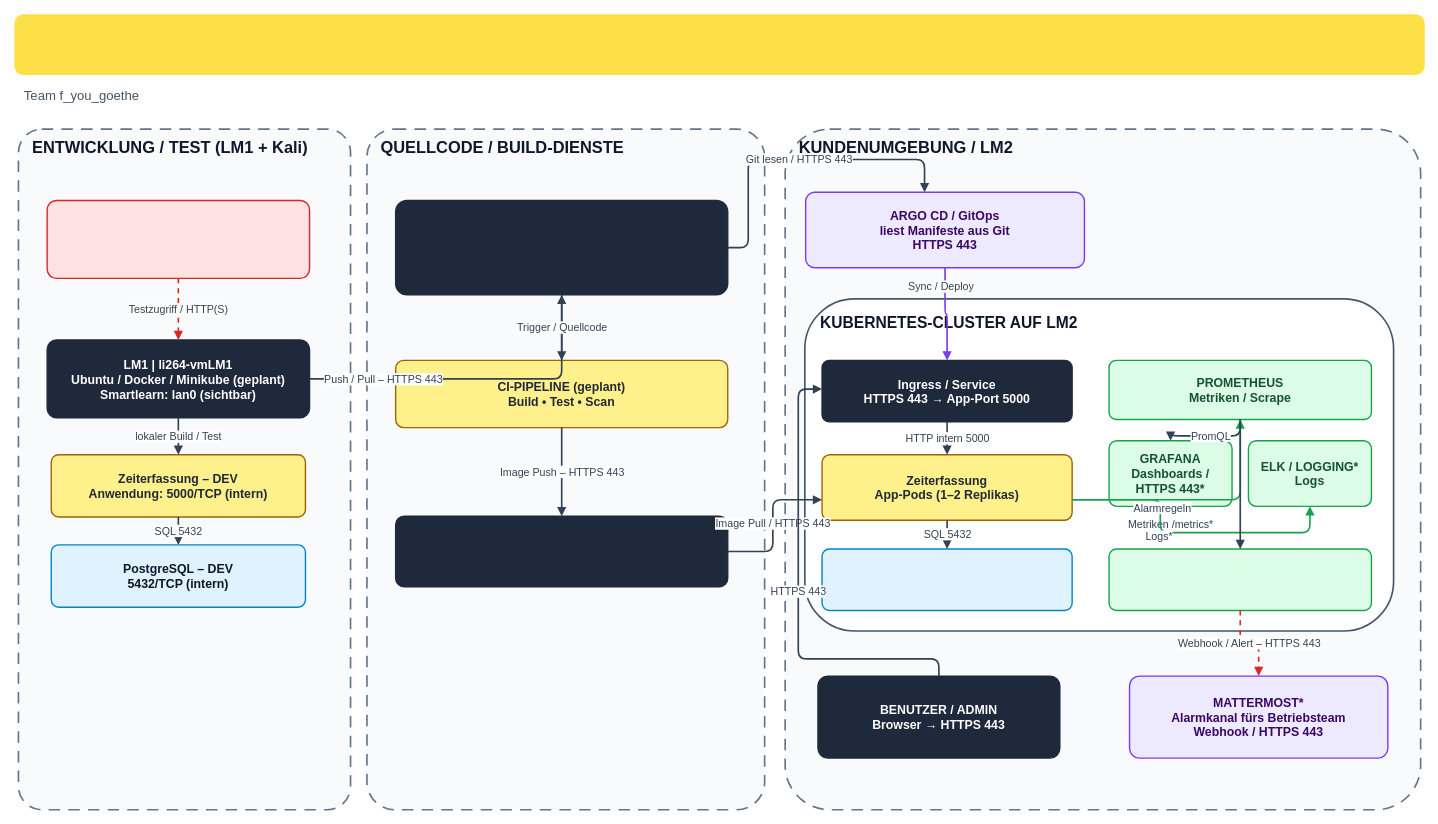
The diagram is 1438 pixels wide and 824 high, and some of its shapes have lost their labels. The shapes that lost their labels are listed below. From the top down, each one's centre as x and y in pixels, then its label:
At [719,44]: "NETZWERKPLAN | SAII – Zeiterfassung".
At [178,239]: "KALI | li261-vmKL1 Tests / GUI / Nmap Smartlearn: lan0 (sichtbar)".
At [561,247]: "GIT-REPOSITORY Quellcode, Dockerfile, Manifeste, Helm-/Argo-Konfiguration".
At [561,551]: "CONTAINER REGISTRY Versionierte Images".
At [946,579]: "PostgreSQL + PVC 5432/TCP nur intern".
At [1240,579]: "ALERTMANAGER Regeln / Benachrichtigung".
